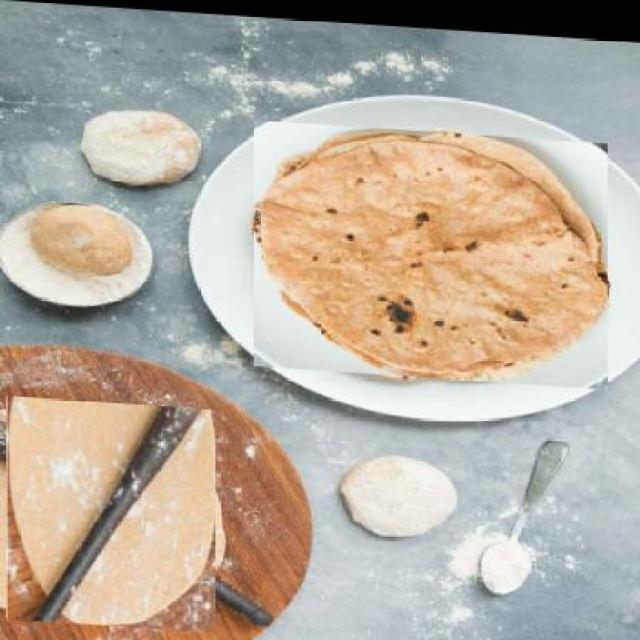chapati: (253, 115, 609, 382), (3, 400, 222, 629)
